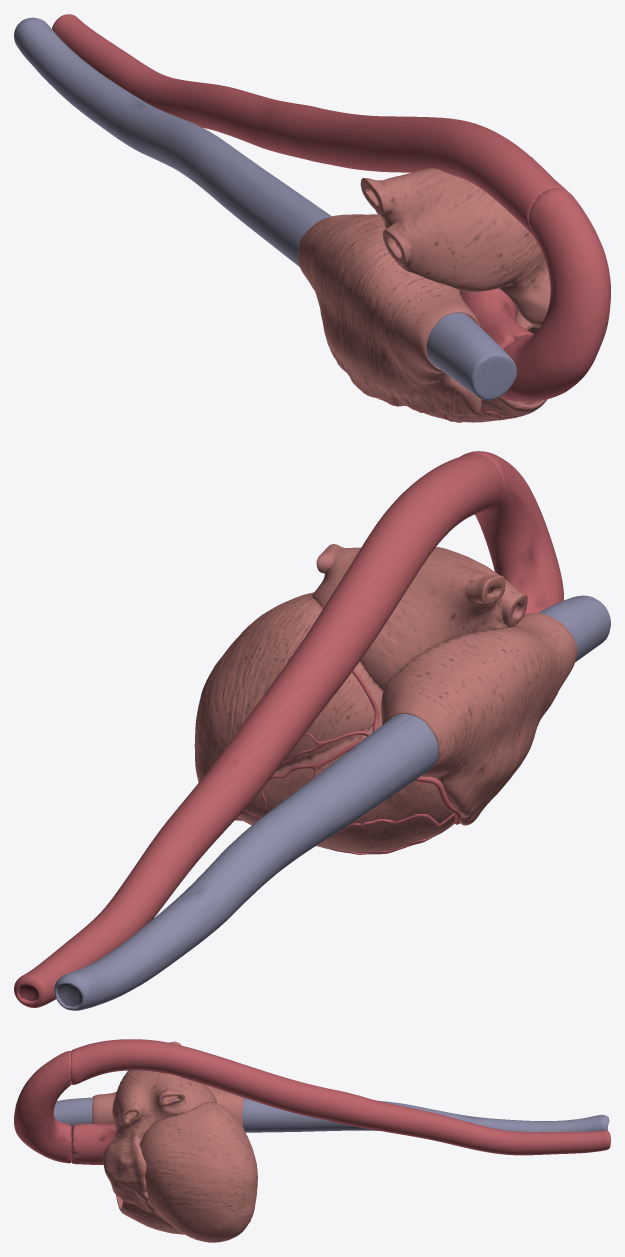
Rendered from heart.0ce5ee3d87.glb.
The picture shows the model from 3 angles, top to bottom: view 1: azimuth 30°, elevation 25°; view 2: azimuth 150°, elevation 25°; view 3: azimuth 270°, elevation 25°; orthographic projection. The views are drawn at different scales.
Visible parts, largest first — view 1: FMA7274, FMA3784, FMA10951, FMA3768, FMA4720, FMA3736; view 2: FMA7274, FMA3784, FMA10951, FMA3768, FMA4720, FMA3840nsn, FMA3818, FMA3802; view 3: FMA7274, FMA3784, FMA3768, FMA10951, FMA3736, FMA4720.
Boxes of the visible parts, x1,y1,x2,y2 form: FMA7274: [297, 157, 550, 422]; FMA3784: [52, 14, 566, 234]; FMA10951: [14, 17, 331, 266]; FMA3768: [499, 188, 610, 401]; FMA4720: [426, 312, 516, 400]; FMA3736: [459, 288, 533, 397]; FMA7274: [194, 544, 577, 852]; FMA3784: [14, 453, 502, 1007]; FMA10951: [54, 713, 438, 1010]; FMA3768: [469, 451, 563, 614]; FMA4720: [538, 595, 610, 662]; FMA3840nsn: [255, 731, 370, 811]; FMA3818: [244, 810, 455, 854]; FMA3802: [352, 669, 460, 824]; FMA7274: [92, 1041, 257, 1242]; FMA3784: [71, 1039, 610, 1155]; FMA3768: [14, 1050, 71, 1163]; FMA10951: [242, 1098, 609, 1132]; FMA3736: [71, 1123, 116, 1164]; FMA4720: [53, 1097, 92, 1131].
Size of the model in its own units: 116 by 129 by 379.
